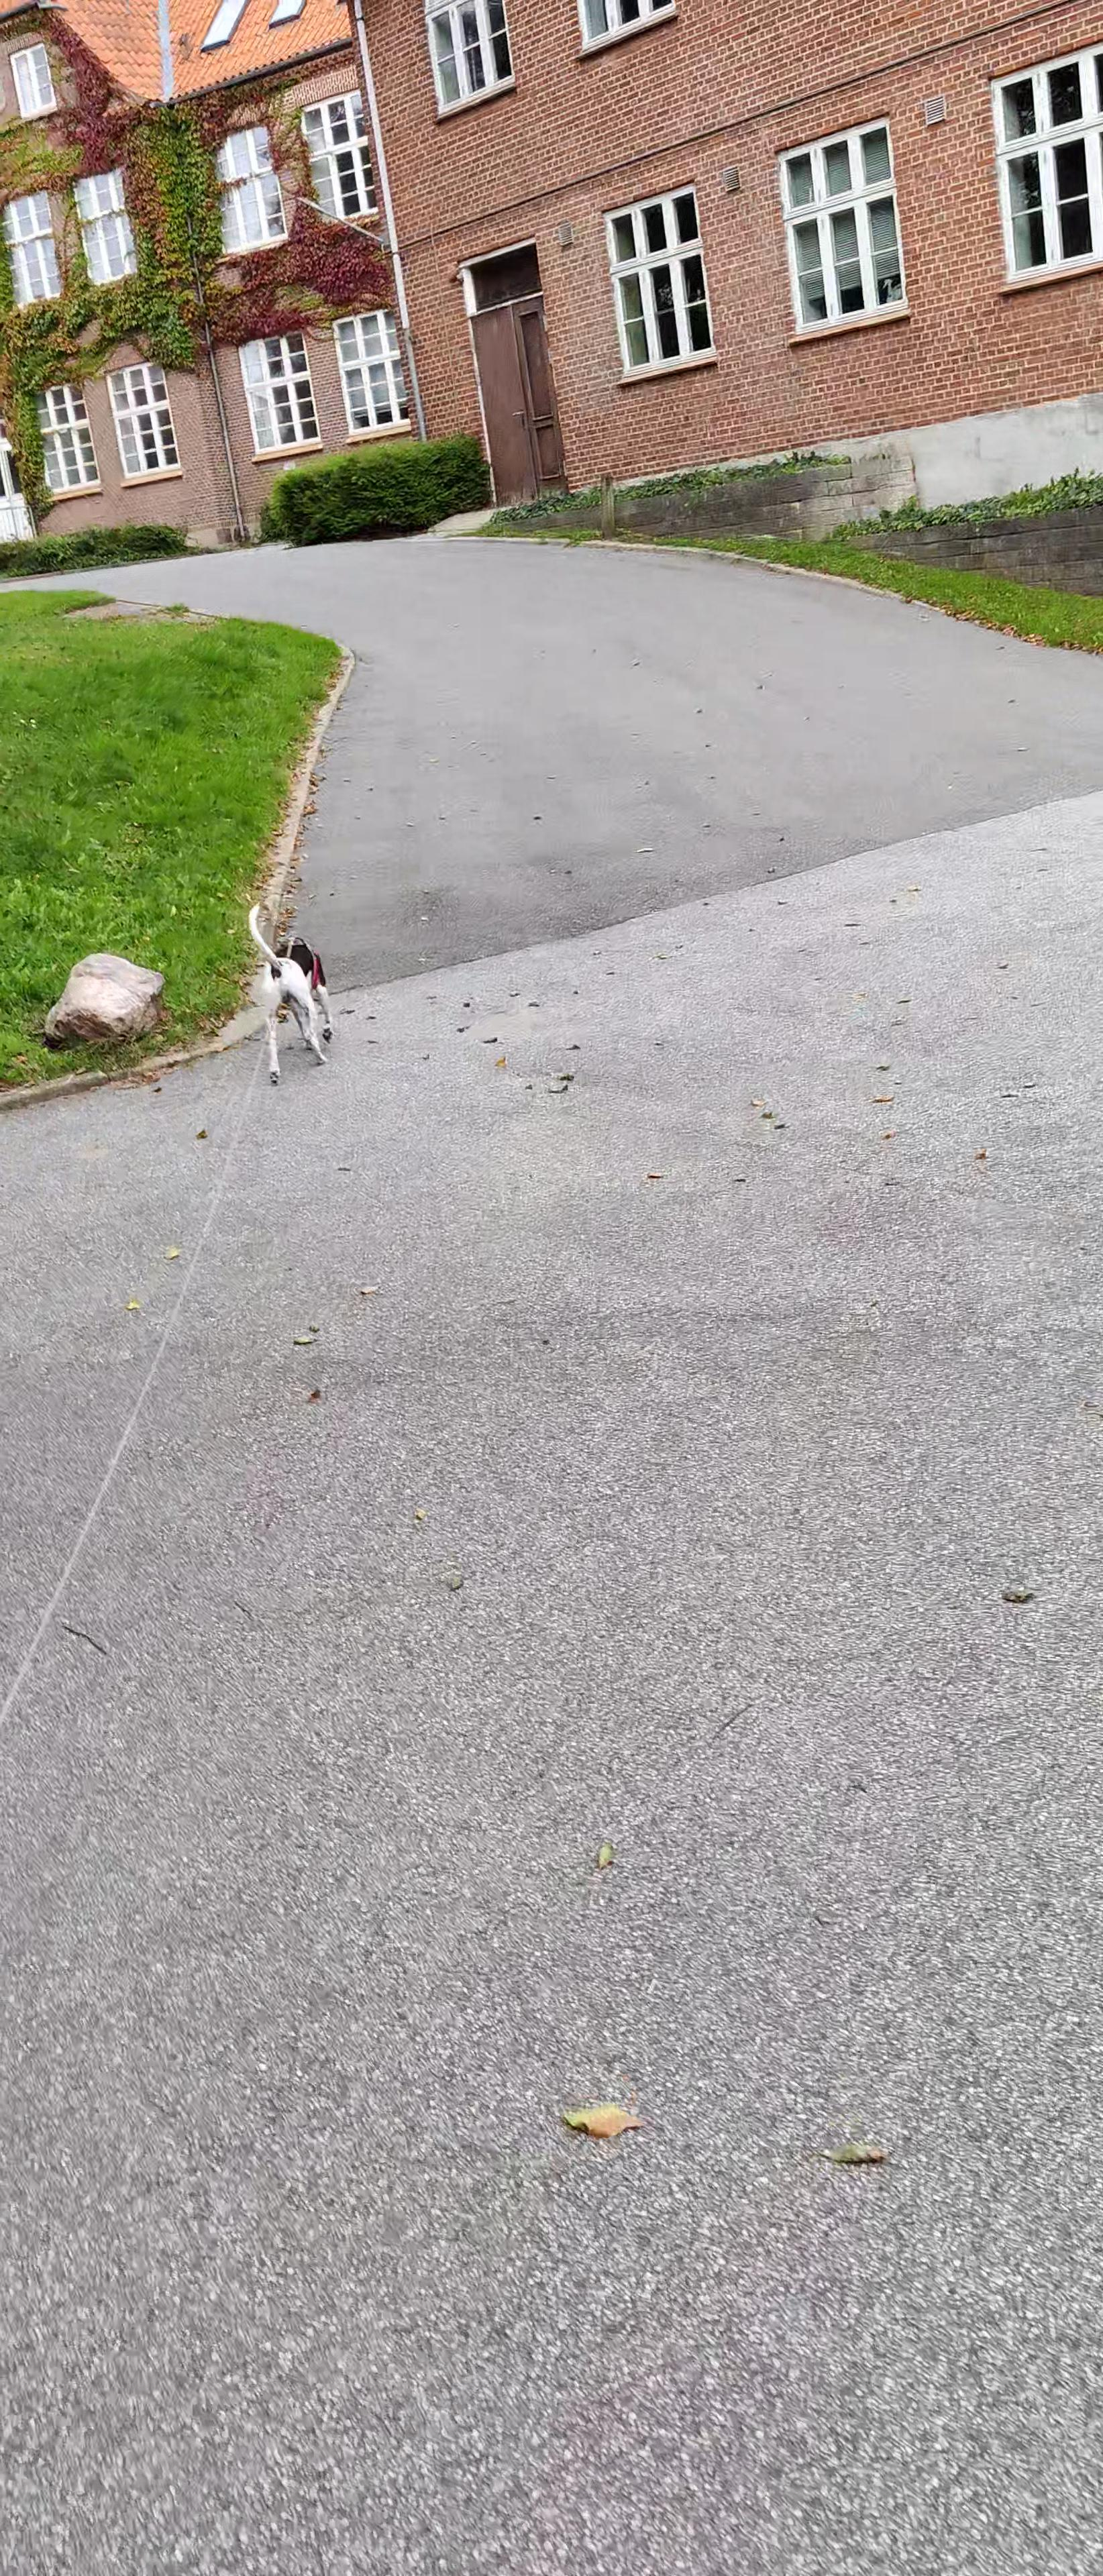Dog: (242, 900, 339, 1091)
